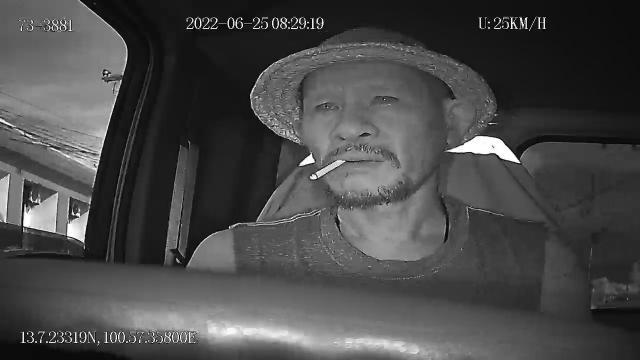SafeDriving: (366, 88, 404, 112), (311, 94, 346, 117)
Smoking: (310, 159, 344, 181)
